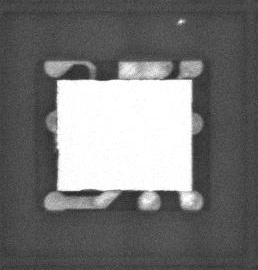DIE_INK: (176, 16, 185, 25)
